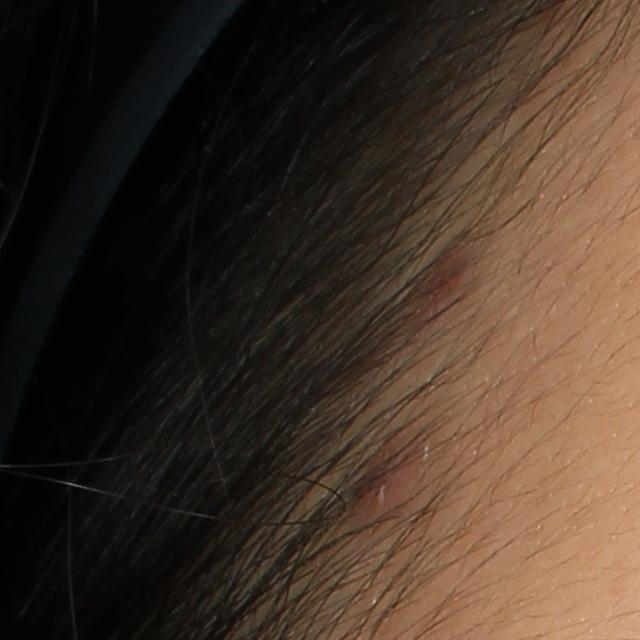papule: (350, 441, 427, 516)
